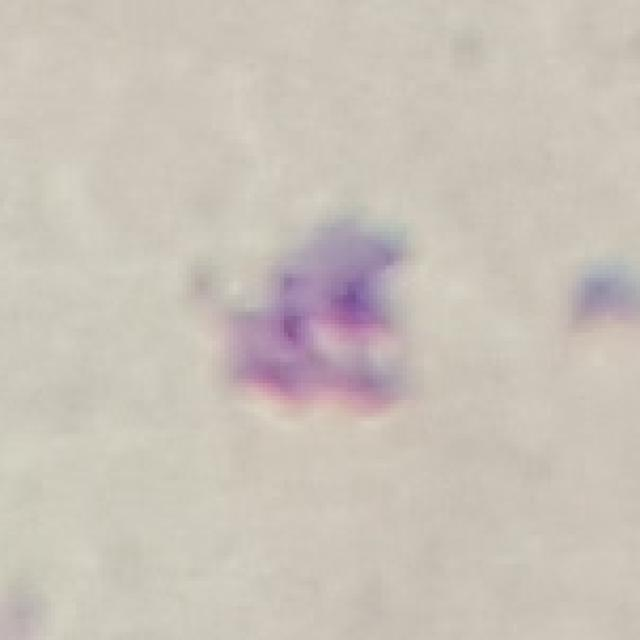non-sperm: (223, 212, 414, 416)
